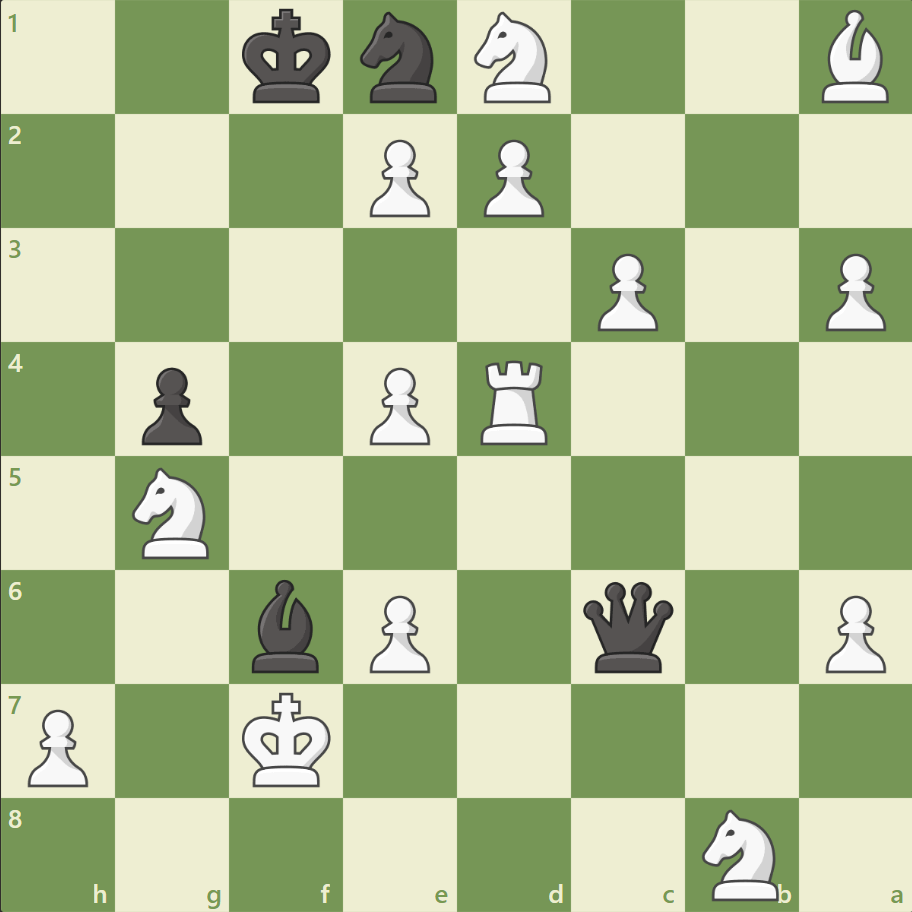B: (812, 6, 896, 109)
K: (238, 685, 338, 793)
N: (124, 461, 222, 564), (465, 7, 562, 110), (692, 802, 789, 904)
P: (20, 700, 95, 791), (474, 132, 549, 223), (815, 586, 889, 677), (361, 586, 435, 677), (361, 359, 435, 450), (815, 246, 889, 337), (588, 246, 662, 337), (361, 132, 435, 223)
R: (473, 352, 556, 449)
b: (244, 574, 328, 676)
k: (238, 4, 338, 112)
n: (351, 7, 449, 110)
p: (133, 359, 208, 450)
q: (578, 576, 677, 676)
